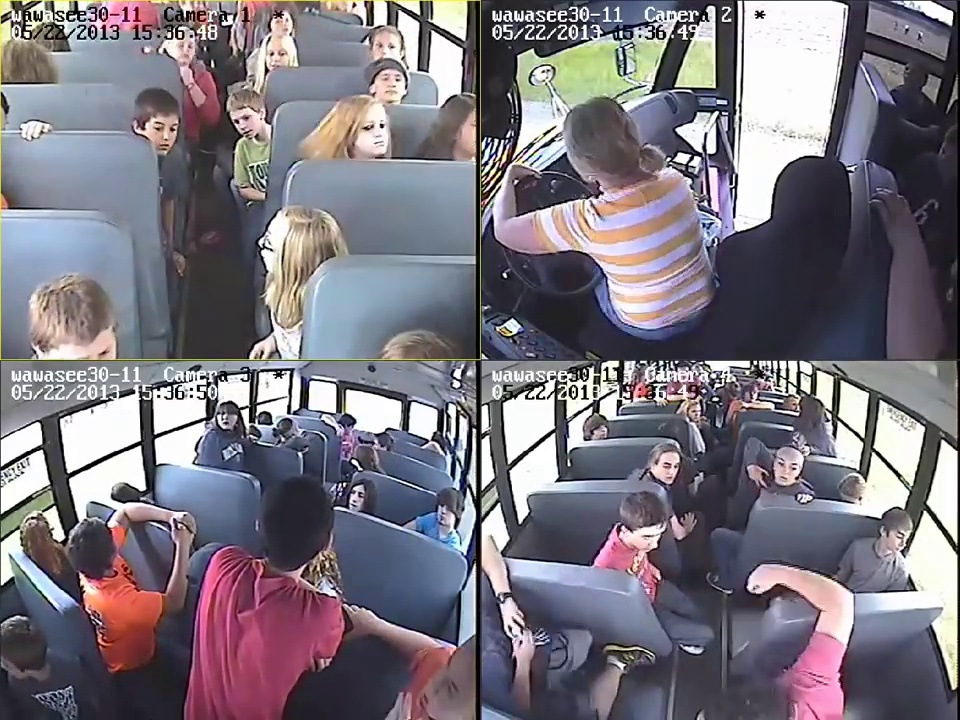face: (416, 637, 473, 720), (255, 216, 292, 277), (346, 106, 390, 152), (147, 112, 178, 150), (375, 68, 406, 103), (652, 455, 679, 485), (773, 455, 799, 485), (233, 103, 255, 135), (373, 34, 400, 59), (345, 485, 372, 510), (435, 500, 458, 528), (891, 527, 911, 553), (264, 44, 285, 68), (214, 408, 238, 429), (175, 40, 194, 63), (274, 18, 293, 36), (588, 421, 607, 439), (685, 403, 702, 421), (742, 386, 758, 401)
